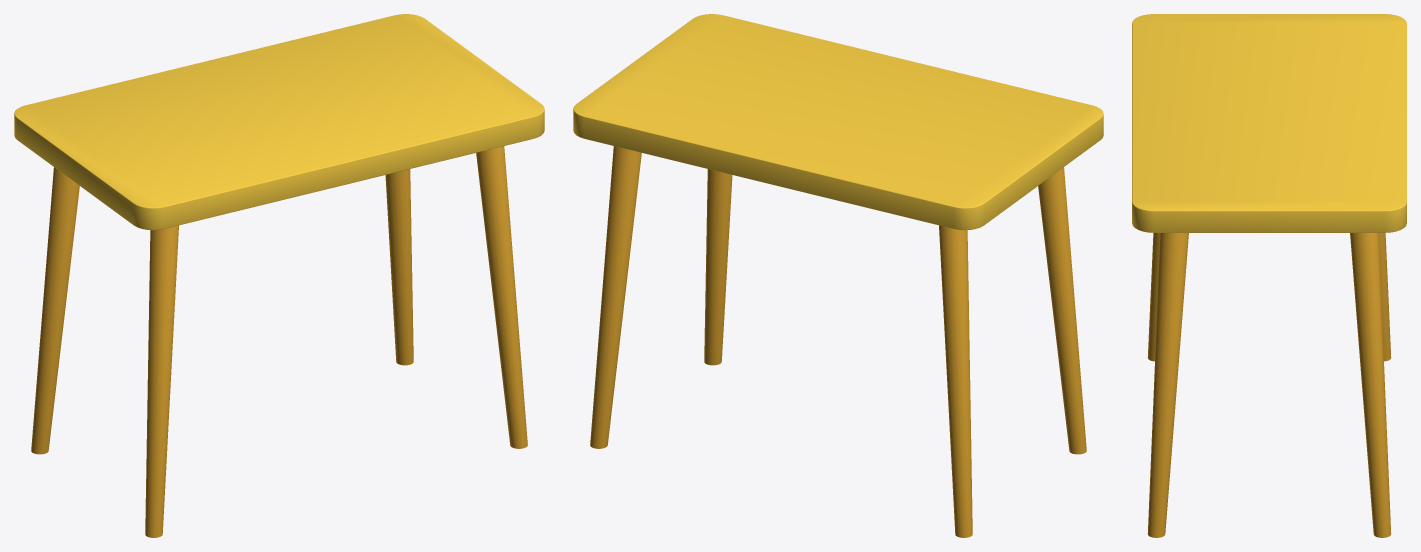
File: mesa_jantar_pes_palito_amarela.glb
3 renders of one model, left to right at view 1: azimuth 30°, elevation 25°; view 2: azimuth 150°, elevation 25°; view 3: azimuth 270°, elevation 25°, orthographic.
Visible parts, largest first — view 1: mesa_jantar_pes_palito_amarela; view 2: mesa_jantar_pes_palito_amarela; view 3: mesa_jantar_pes_palito_amarela.
Part boxes in pixels (x1,y1,x2,y2): mesa_jantar_pes_palito_amarela: [14, 14, 544, 537]; mesa_jantar_pes_palito_amarela: [573, 14, 1103, 537]; mesa_jantar_pes_palito_amarela: [1132, 14, 1406, 537].
Size of the model in its own units: 0.95 by 0.75 by 0.56.
1 material, 1 textured.
